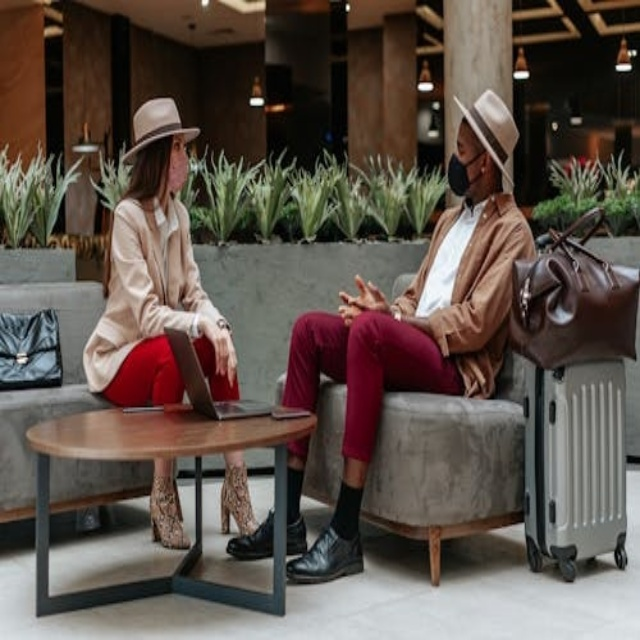Mascara: (447, 150, 484, 197), (167, 146, 189, 195)
Sin_gafas: (451, 138, 475, 158), (172, 139, 189, 153)
Sin_guantes: (334, 261, 392, 331), (200, 309, 247, 386)
